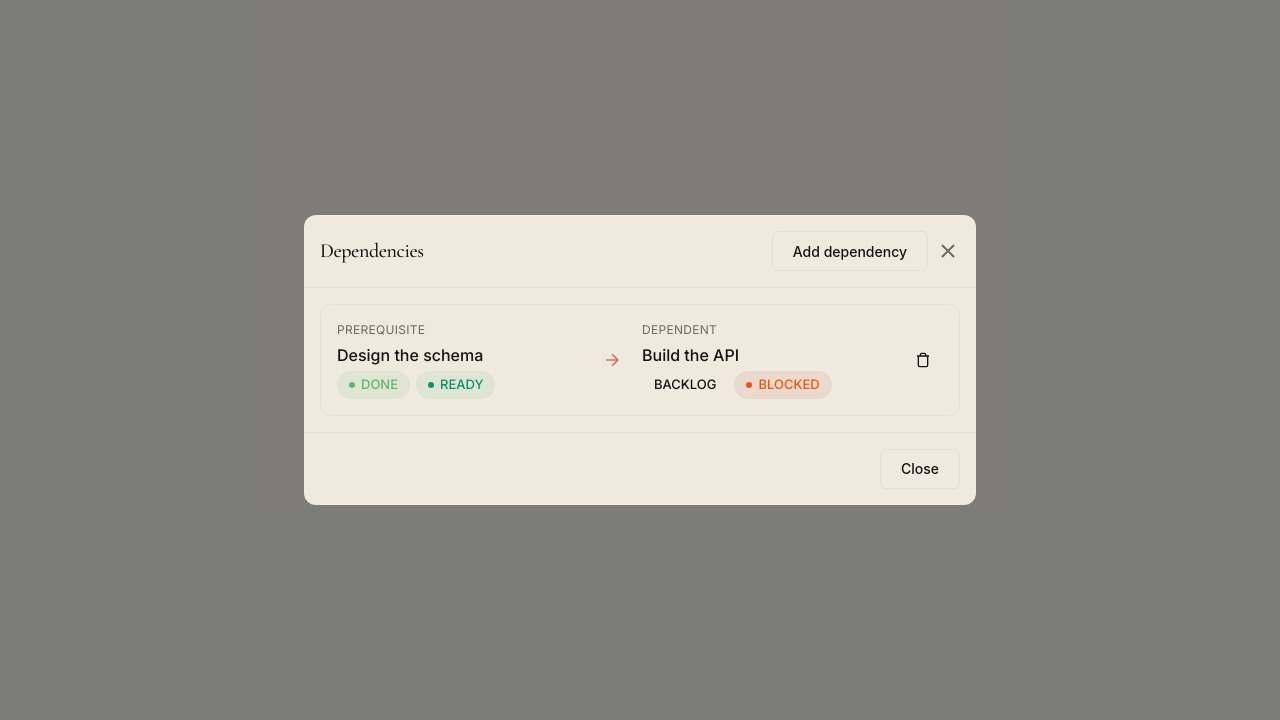
DependencyList removal confirmation › cancelling leaves the edge alone
Click the 3rd button: x=923, y=360 top-left (903, 346), bottom-right (943, 374)
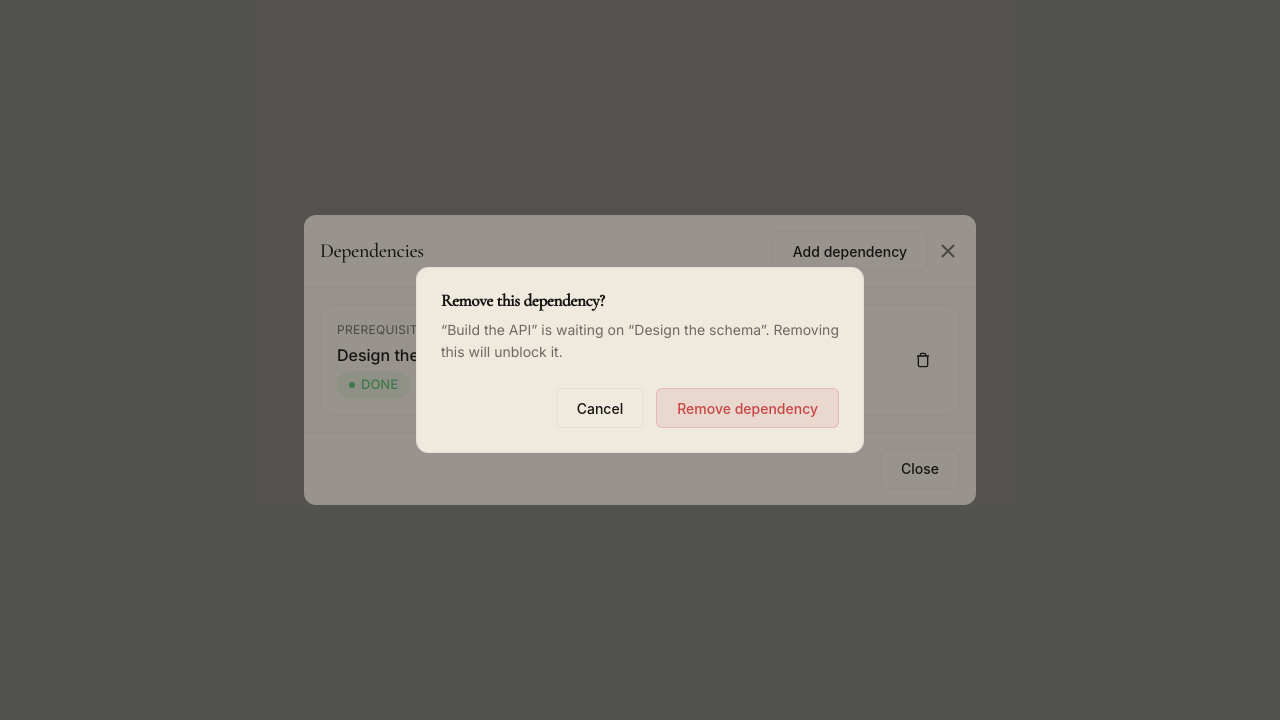
Click the button "Cancel": x=600, y=408 top-left (556, 388), bottom-right (644, 428)
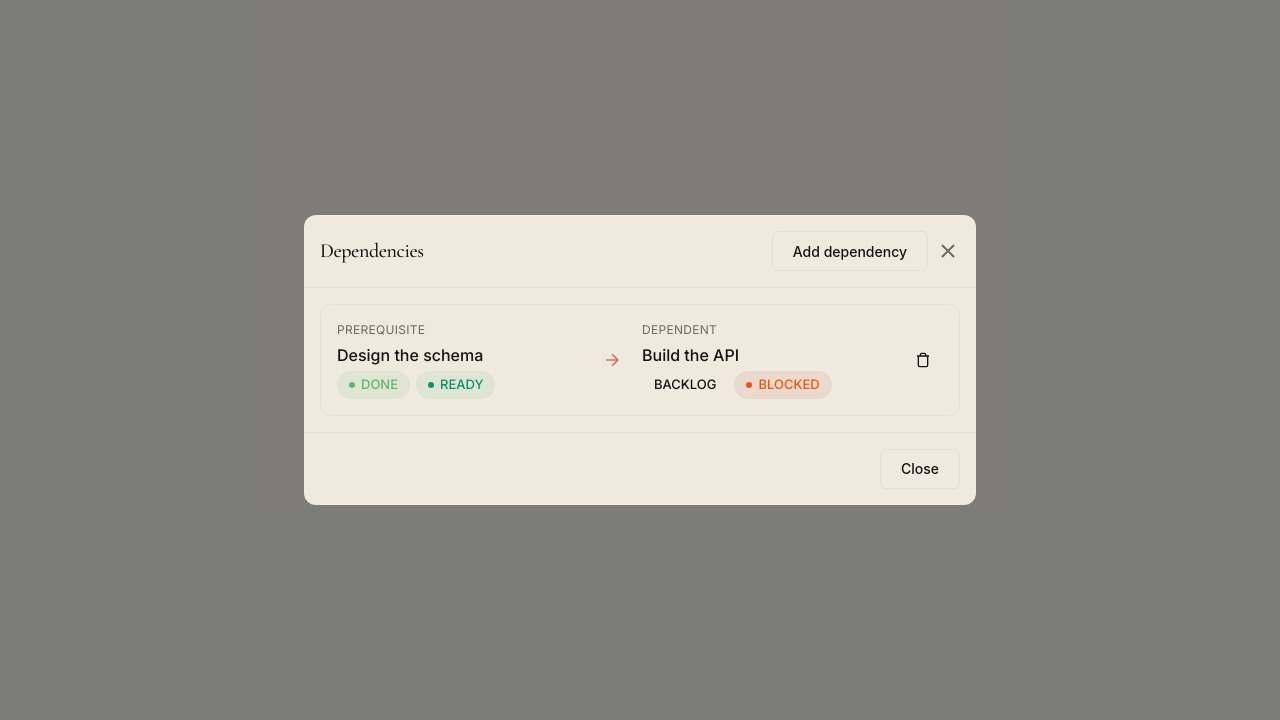
Now the dialog is gone
